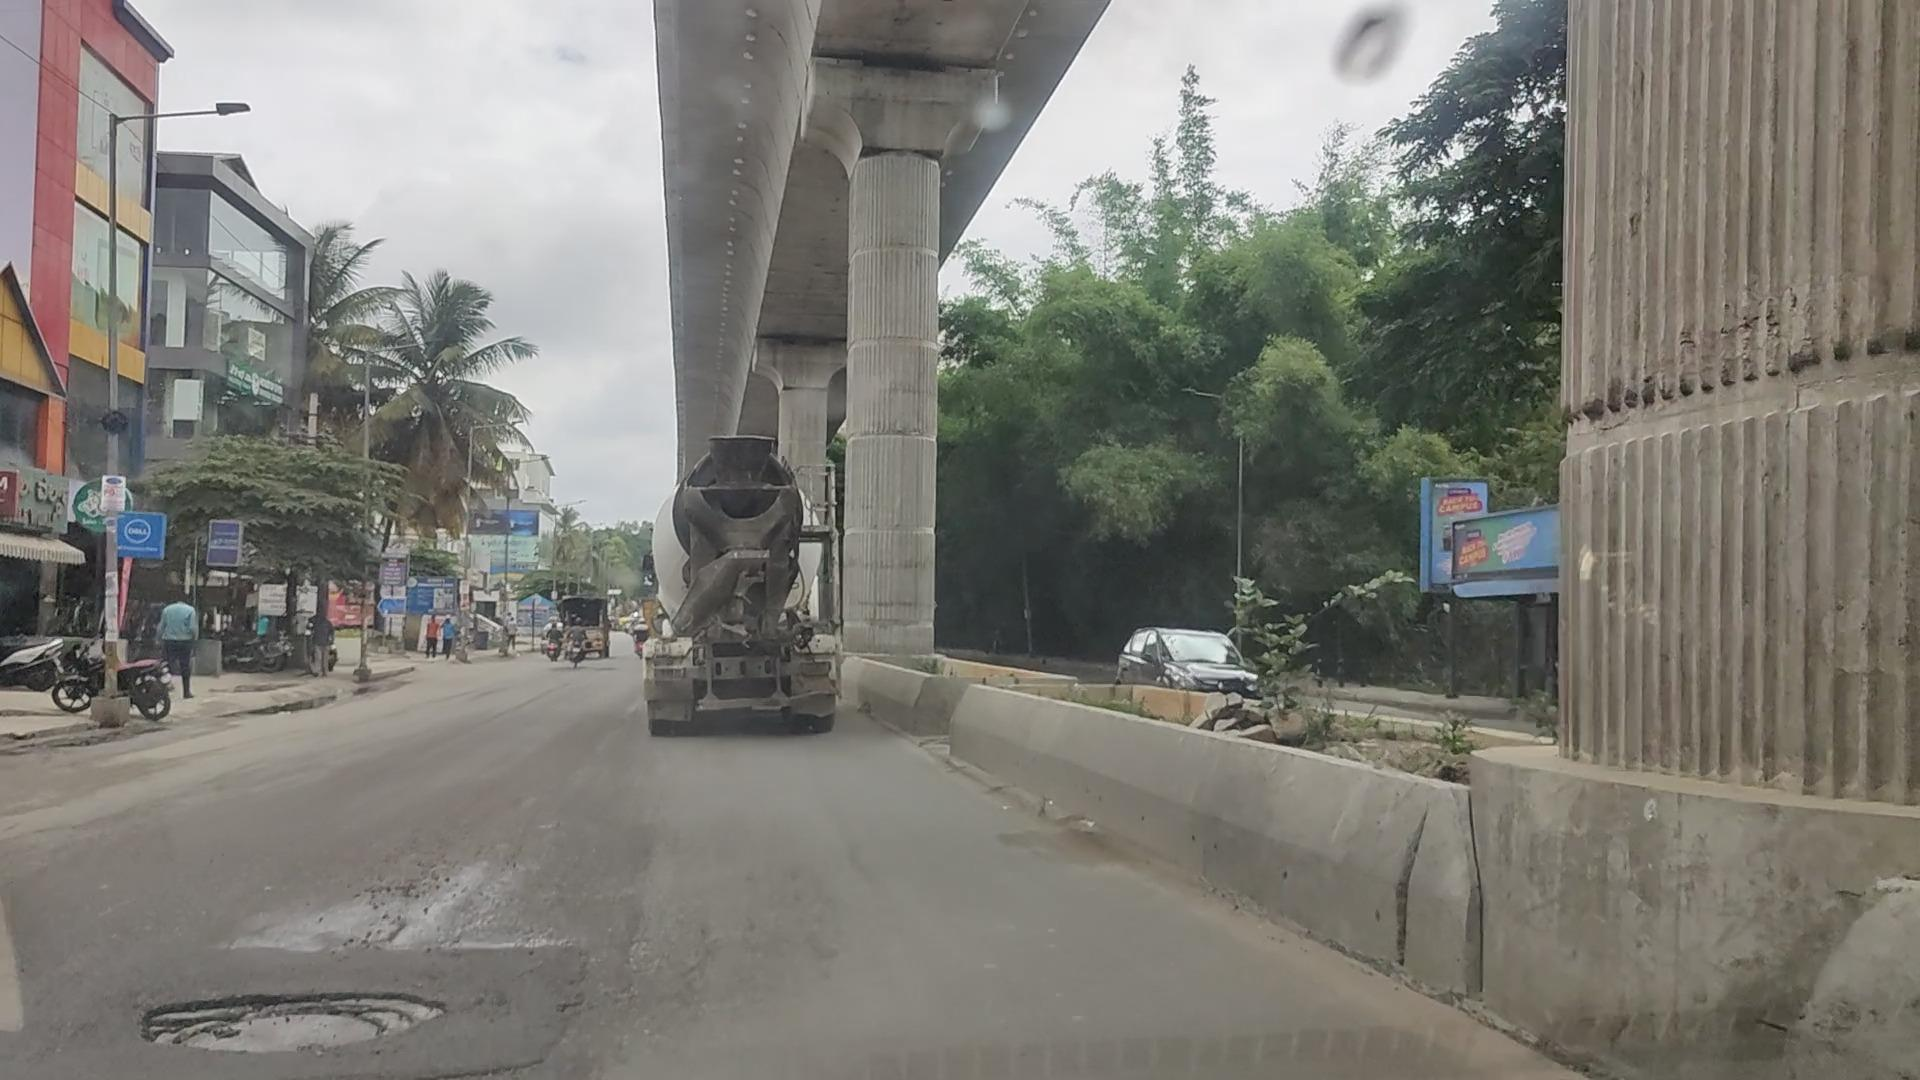HMV: (650, 444, 837, 728)
RoadDamages: (223, 858, 541, 963), (132, 976, 463, 1062), (498, 952, 615, 1080)
